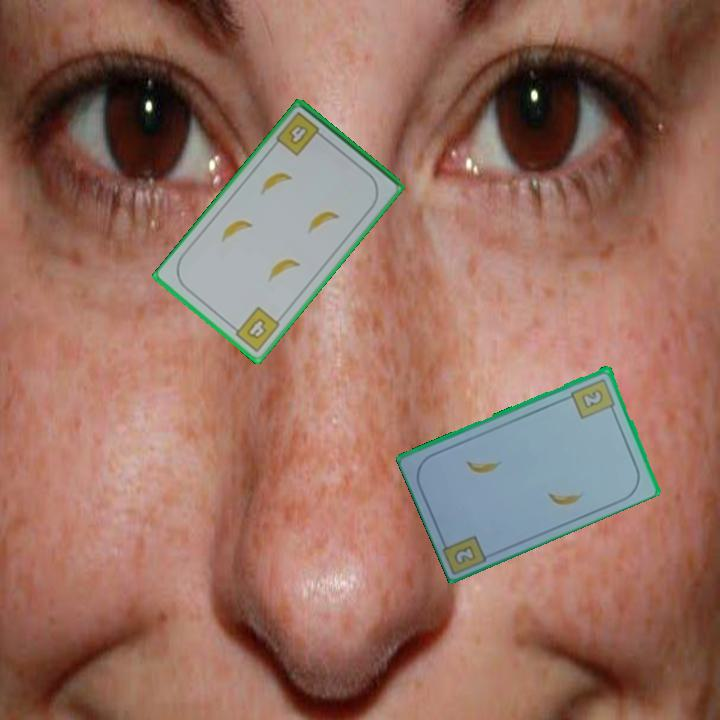2b: (568, 375, 618, 421), (450, 542, 479, 568)
4b: (227, 303, 283, 355), (272, 108, 328, 159)
